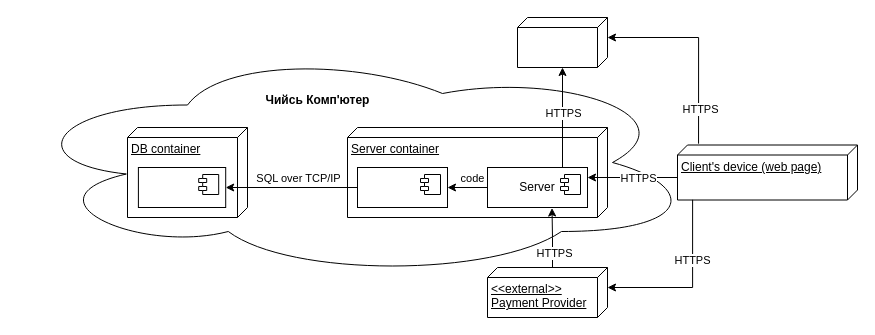
Image size: 875x335. Some labels were removed from this diagram. Here are the shapes that lost their labels. From the top down, the centre of each, then its label:
point 562,42: <<external>> Map Service
point 181,187: DB
point 402,187: ORM
